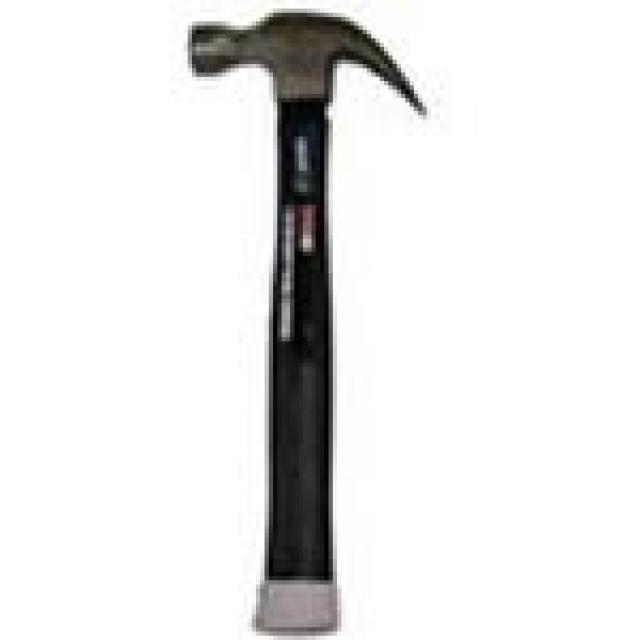hammer: (180, 7, 436, 634)
